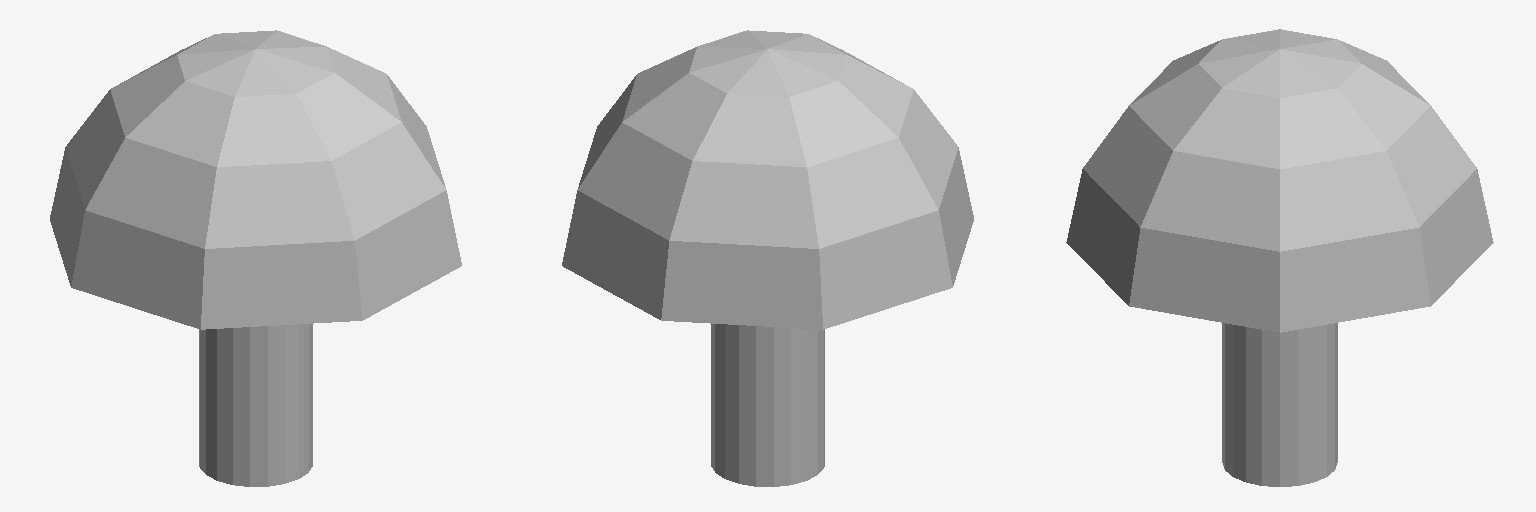
File: MushroomS.obj
The picture shows the model from 3 angles: view 1: azimuth 30°, elevation 25°; view 2: azimuth 150°, elevation 25°; view 3: azimuth 270°, elevation 25°; orthographic projection.
Visible parts, largest first — view 1: pSphere2; view 2: pSphere2; view 3: pSphere2.
Boxes of the visible parts, x1,y1,x2,y2 form: pSphere2: [50, 30, 461, 486]; pSphere2: [562, 30, 973, 486]; pSphere2: [1066, 29, 1493, 486].
Size of the model in its own units: 2 by 2.14 by 2.